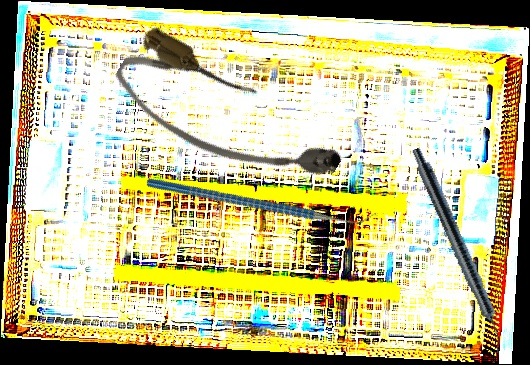Cannula: (104, 20, 352, 216)
Chopper: (144, 105, 379, 294)
Handpiece: (405, 145, 513, 355)
